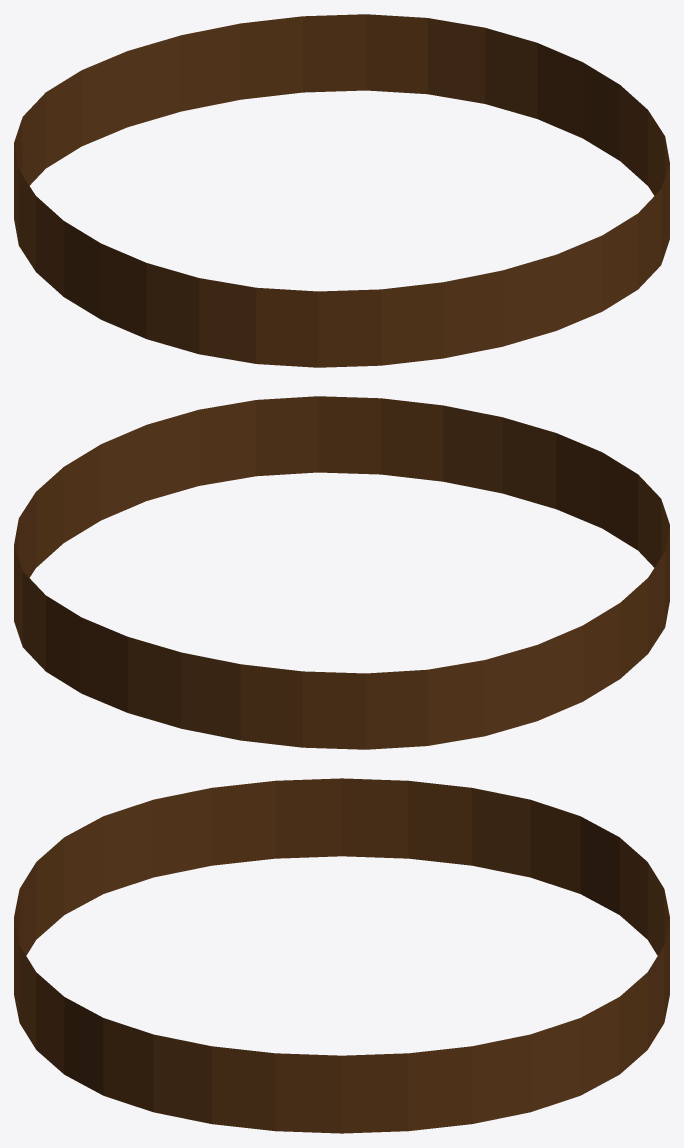
The model's file is fov_limiter1.fbx.
3 views of the same model, one above another, from view 1: azimuth 30°, elevation 25°; view 2: azimuth 150°, elevation 25°; view 3: azimuth 270°, elevation 25° (orthographic). The views are drawn at different scales.
Visible parts, largest first — view 1: Cube.001; view 2: Cube.001; view 3: Cube.001.
Boxes of the visible parts, x1,y1,x2,y2 form: Cube.001: (14, 14, 669, 367); Cube.001: (14, 396, 669, 749); Cube.001: (14, 778, 669, 1133).
Bounding box in the file's own units: 54449 × 7134 × 54449.
